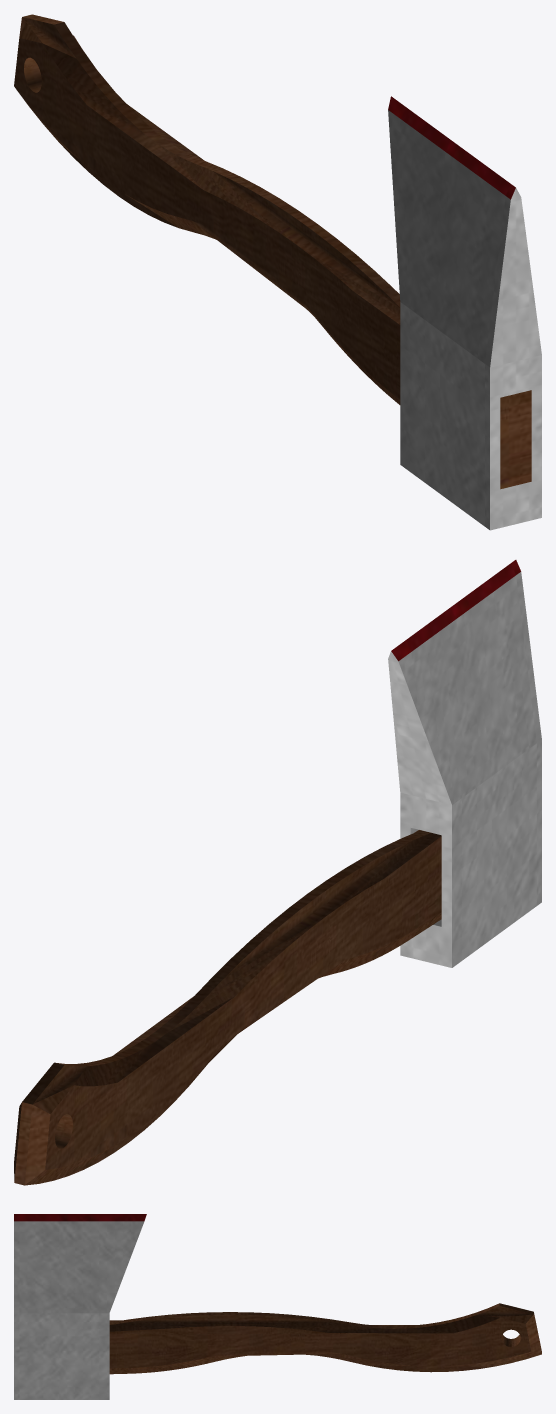
File: model_align.obj
3 views of the same model, one above another, from view 1: azimuth 30°, elevation 25°; view 2: azimuth 150°, elevation 25°; view 3: azimuth 270°, elevation 25° (orthographic). The views are drawn at different scales.
Visible parts, largest first — view 1: mesh1_mesh1-geometry, mesh2_mesh2-geometry; view 2: mesh1_mesh1-geometry, mesh2_mesh2-geometry; view 3: mesh2_mesh2-geometry, mesh1_mesh1-geometry.
Part boxes in pixels (x1,y1,x2,y2): mesh1_mesh1-geometry: [388, 96, 541, 530]; mesh2_mesh2-geometry: [14, 14, 531, 489]; mesh1_mesh1-geometry: [388, 560, 541, 967]; mesh2_mesh2-geometry: [14, 830, 441, 1185]; mesh2_mesh2-geometry: [109, 1303, 541, 1374]; mesh1_mesh1-geometry: [14, 1214, 146, 1399].
Size of the model in its own units: 0.0118 by 0.0731 by 0.1954.
Materials: 3 (3 with a texture image).
